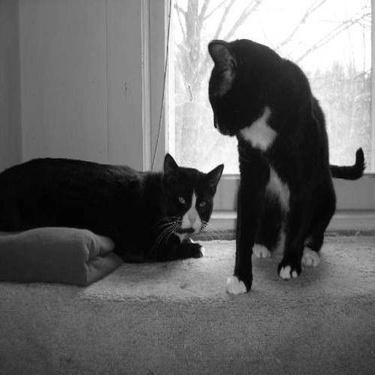cat: (203, 27, 345, 298), (2, 126, 226, 270)
